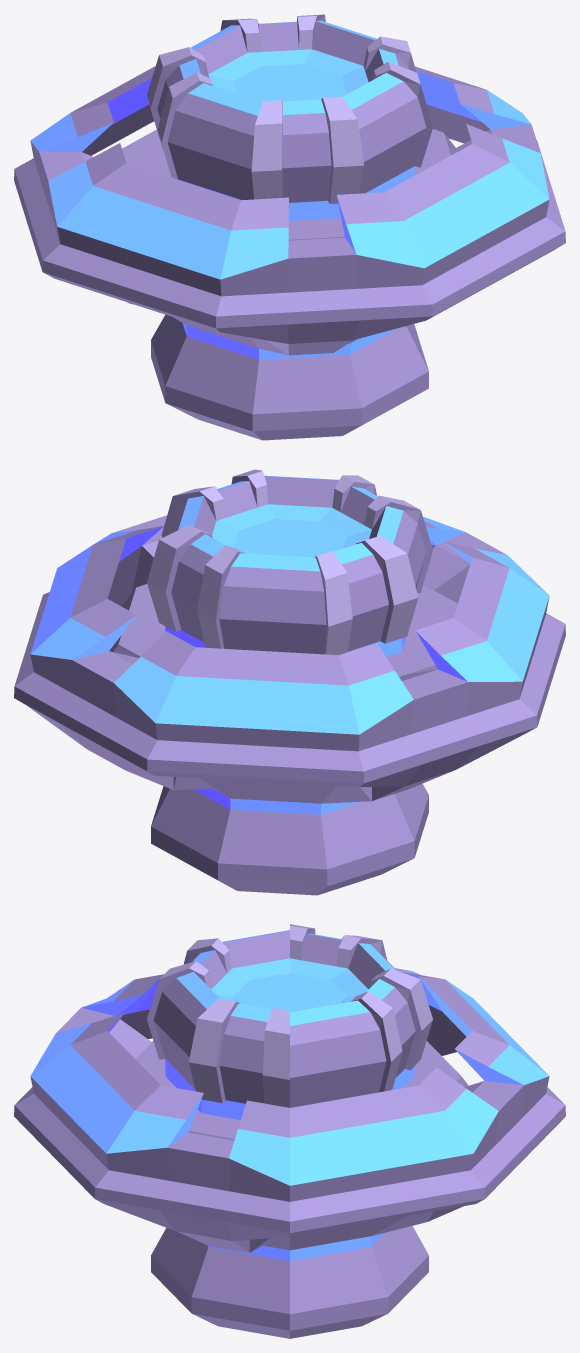
File: tower.fbx
The picture shows the model from 3 angles, top to bottom: view 1: azimuth 30°, elevation 25°; view 2: azimuth 150°, elevation 25°; view 3: azimuth 270°, elevation 25°; orthographic projection. The views are drawn at different scales.
Visible parts, largest first — view 1: Circle.006; view 2: Circle.006; view 3: Circle.006.
Part boxes in pixels (x1,y1,x2,y2): Circle.006: [14, 14, 565, 440]; Circle.006: [14, 469, 565, 895]; Circle.006: [14, 924, 565, 1338].
Bounding box in the file's own units: 373 × 244 × 373.
